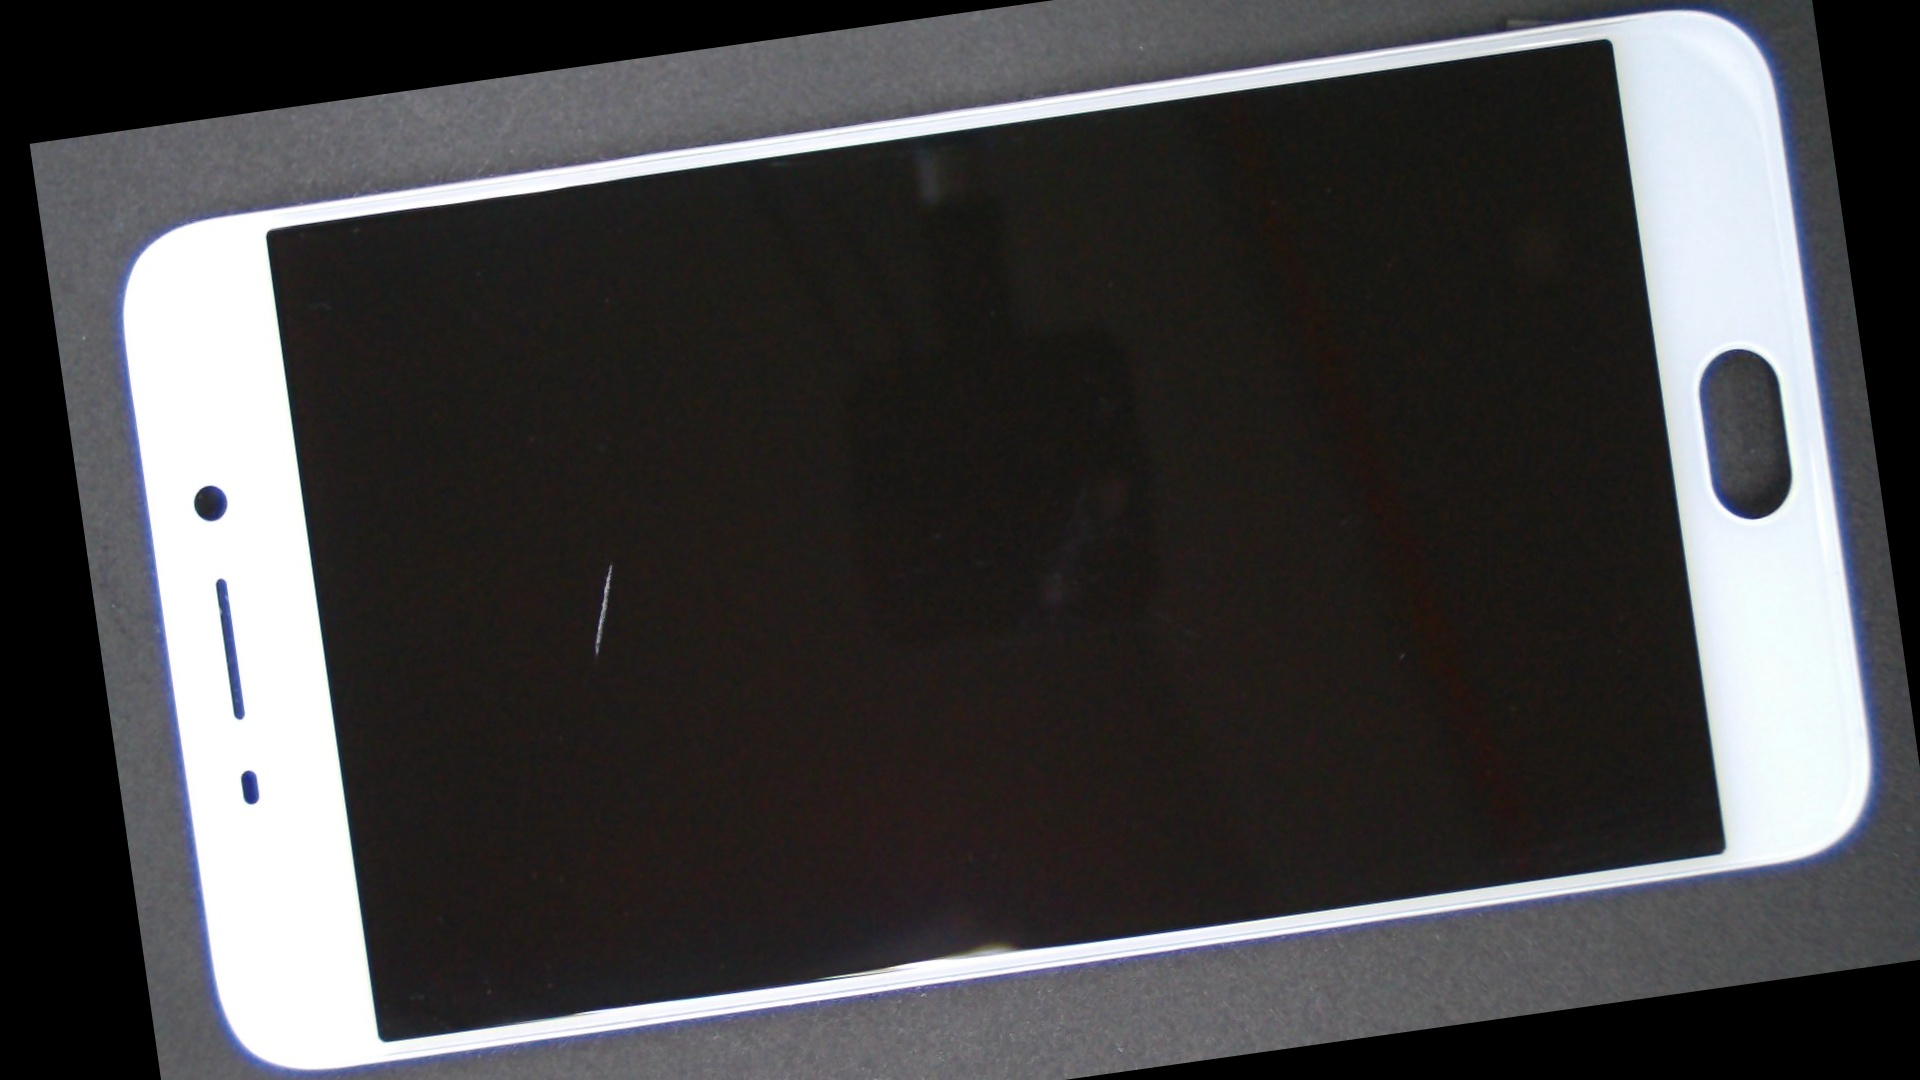oil: (319, 282, 898, 847)
